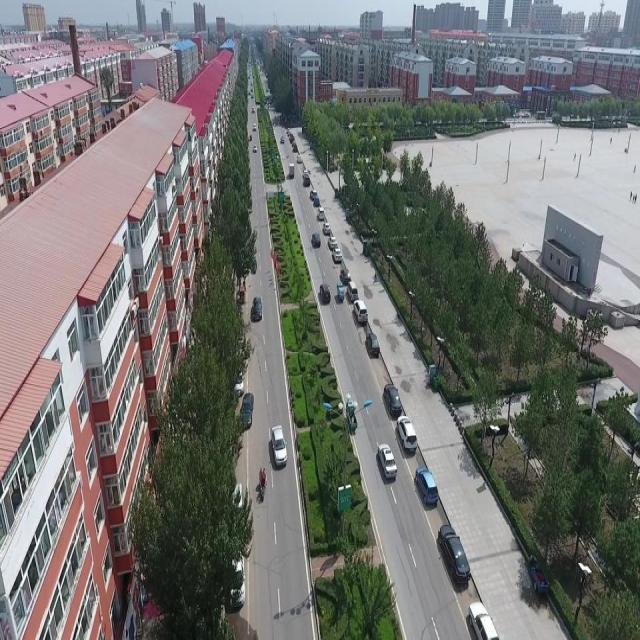car: (468, 601, 499, 639), (527, 556, 549, 595), (270, 424, 287, 467)
